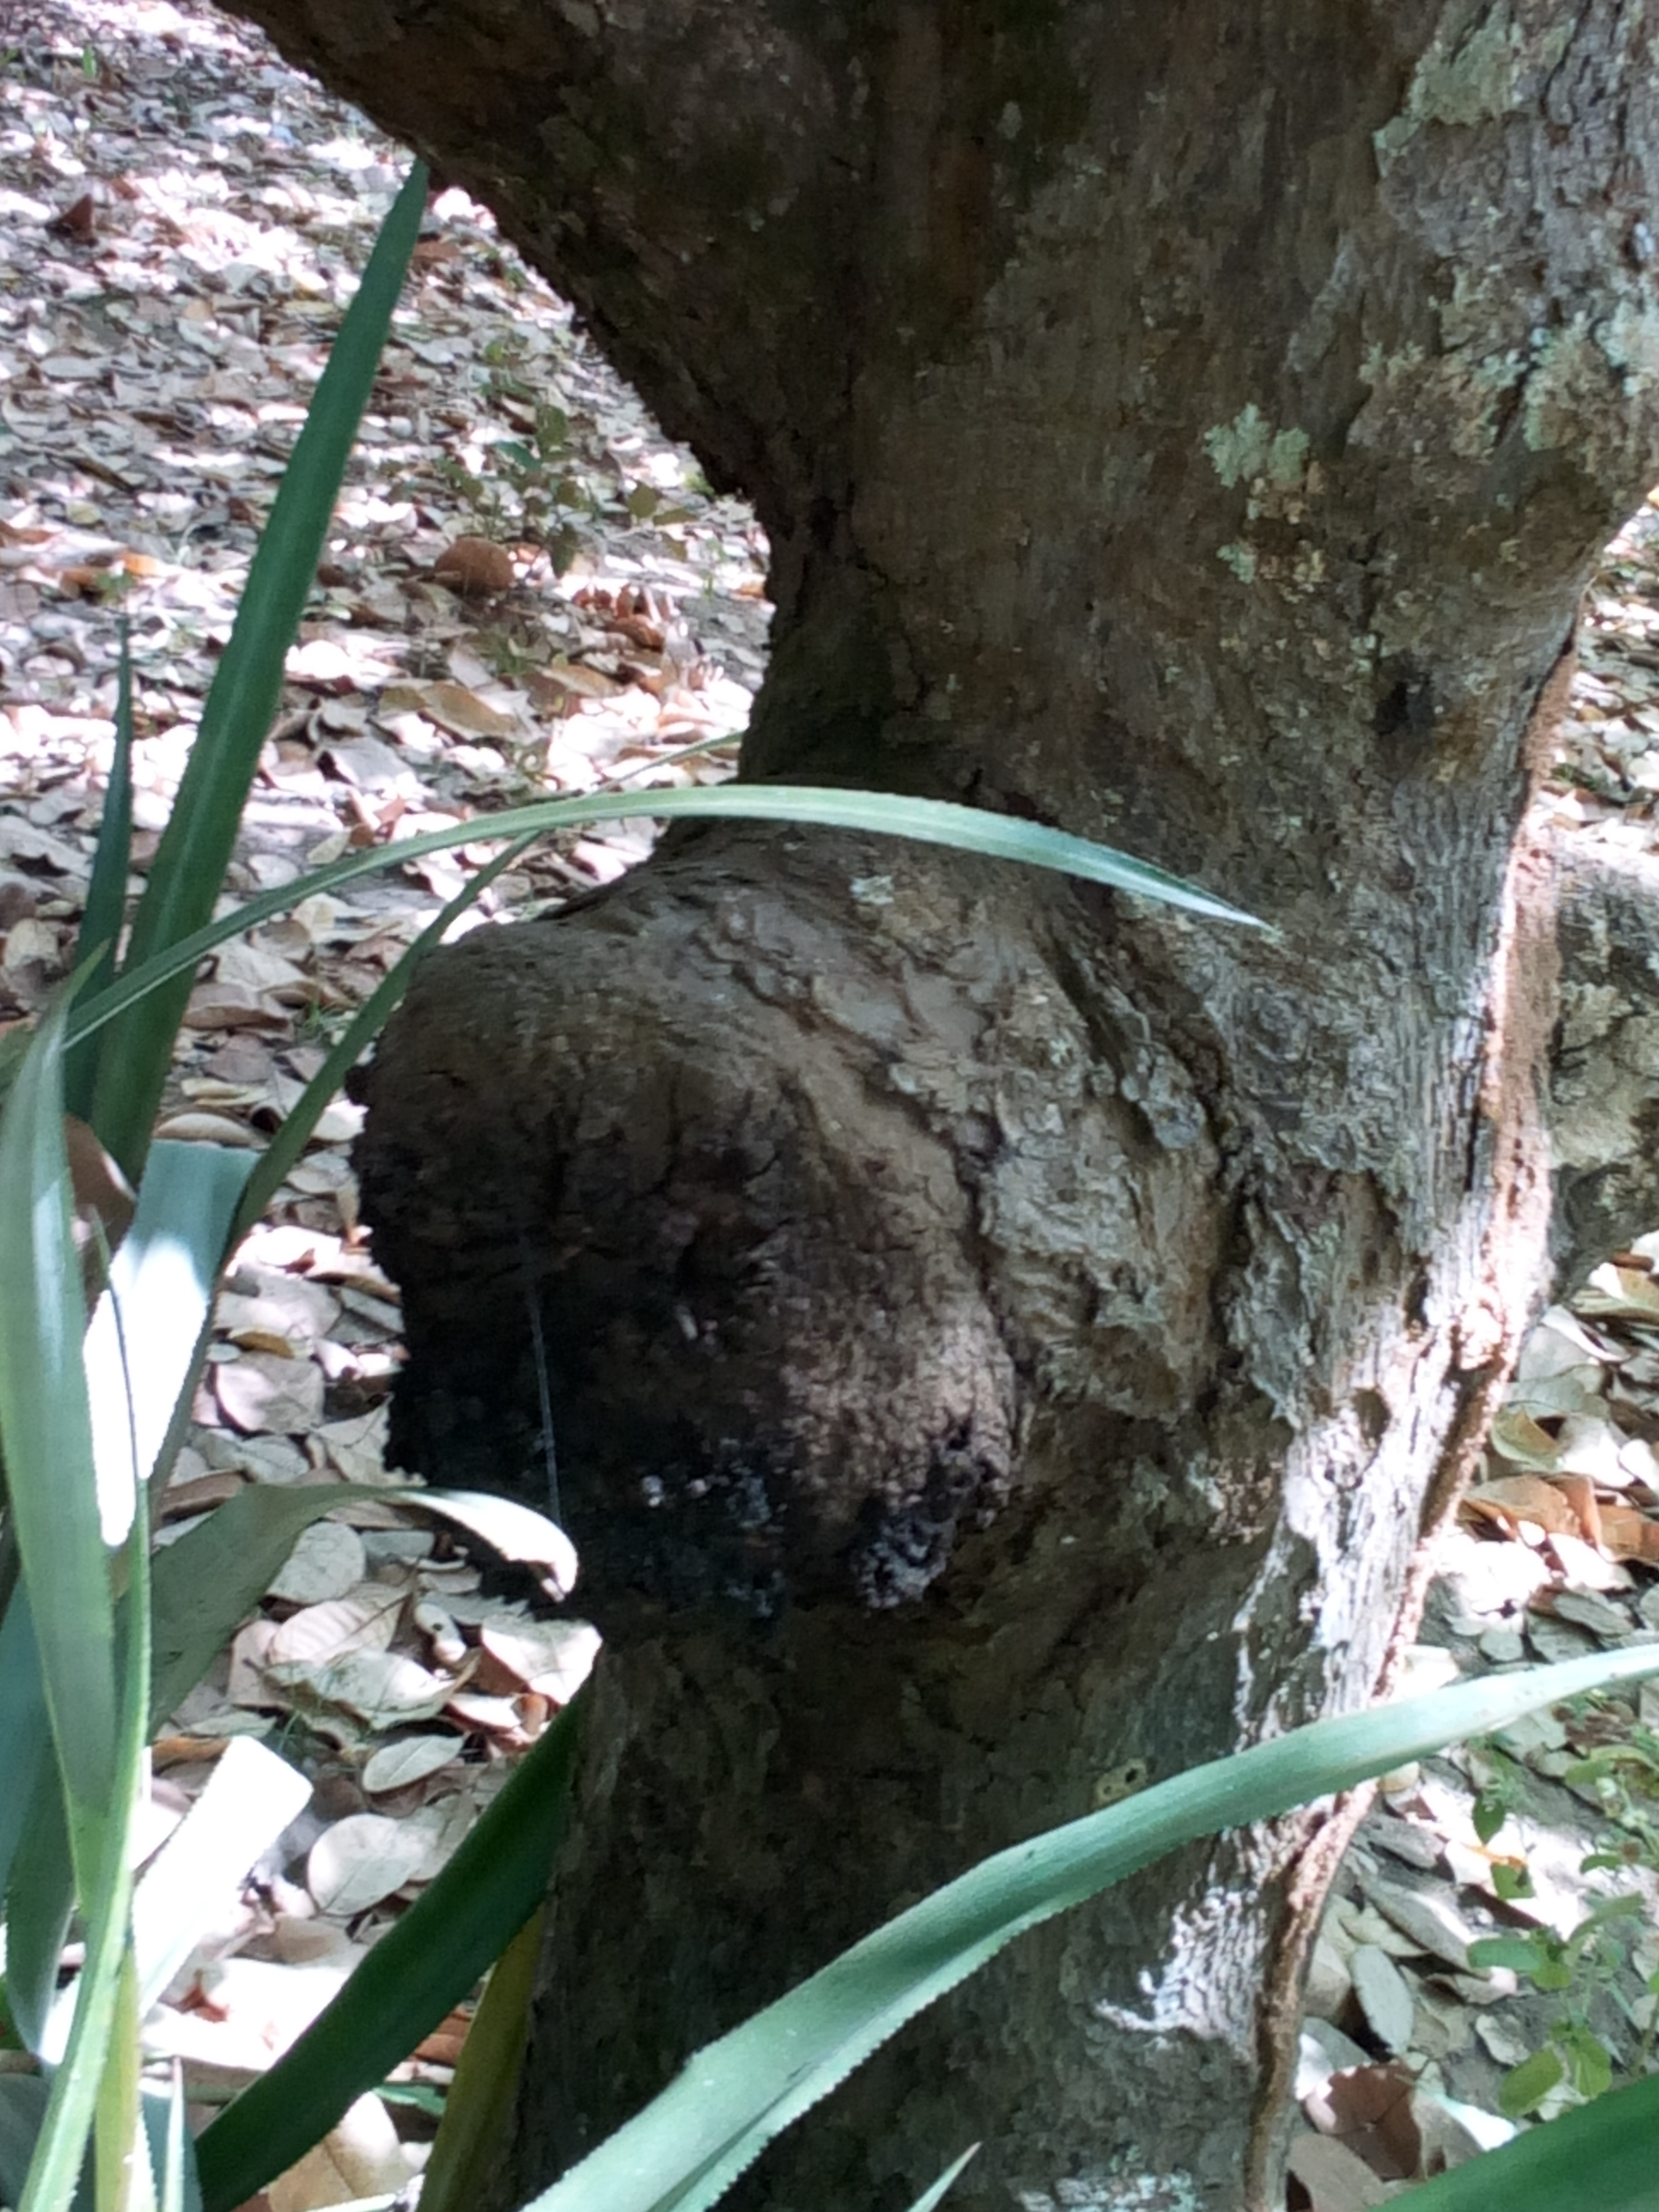Termites: (1476, 862, 1544, 1386), (1263, 1869, 1317, 2203)
